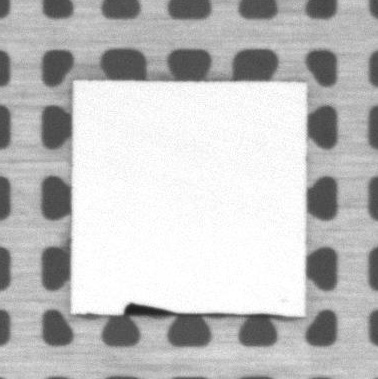DIE_INK: (123, 303, 208, 316)
